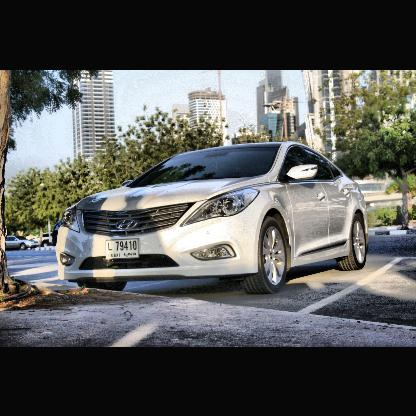Hyundai Azera Sedan 2012: (54, 141, 377, 298)
